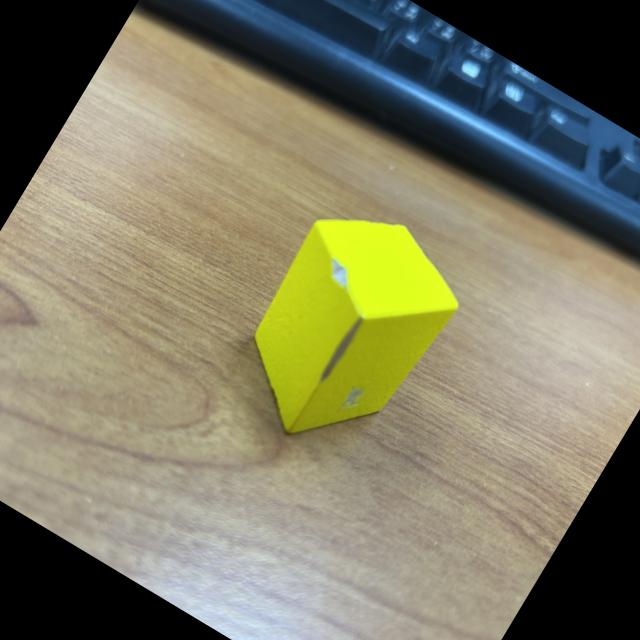broken: (214, 182, 482, 476)
